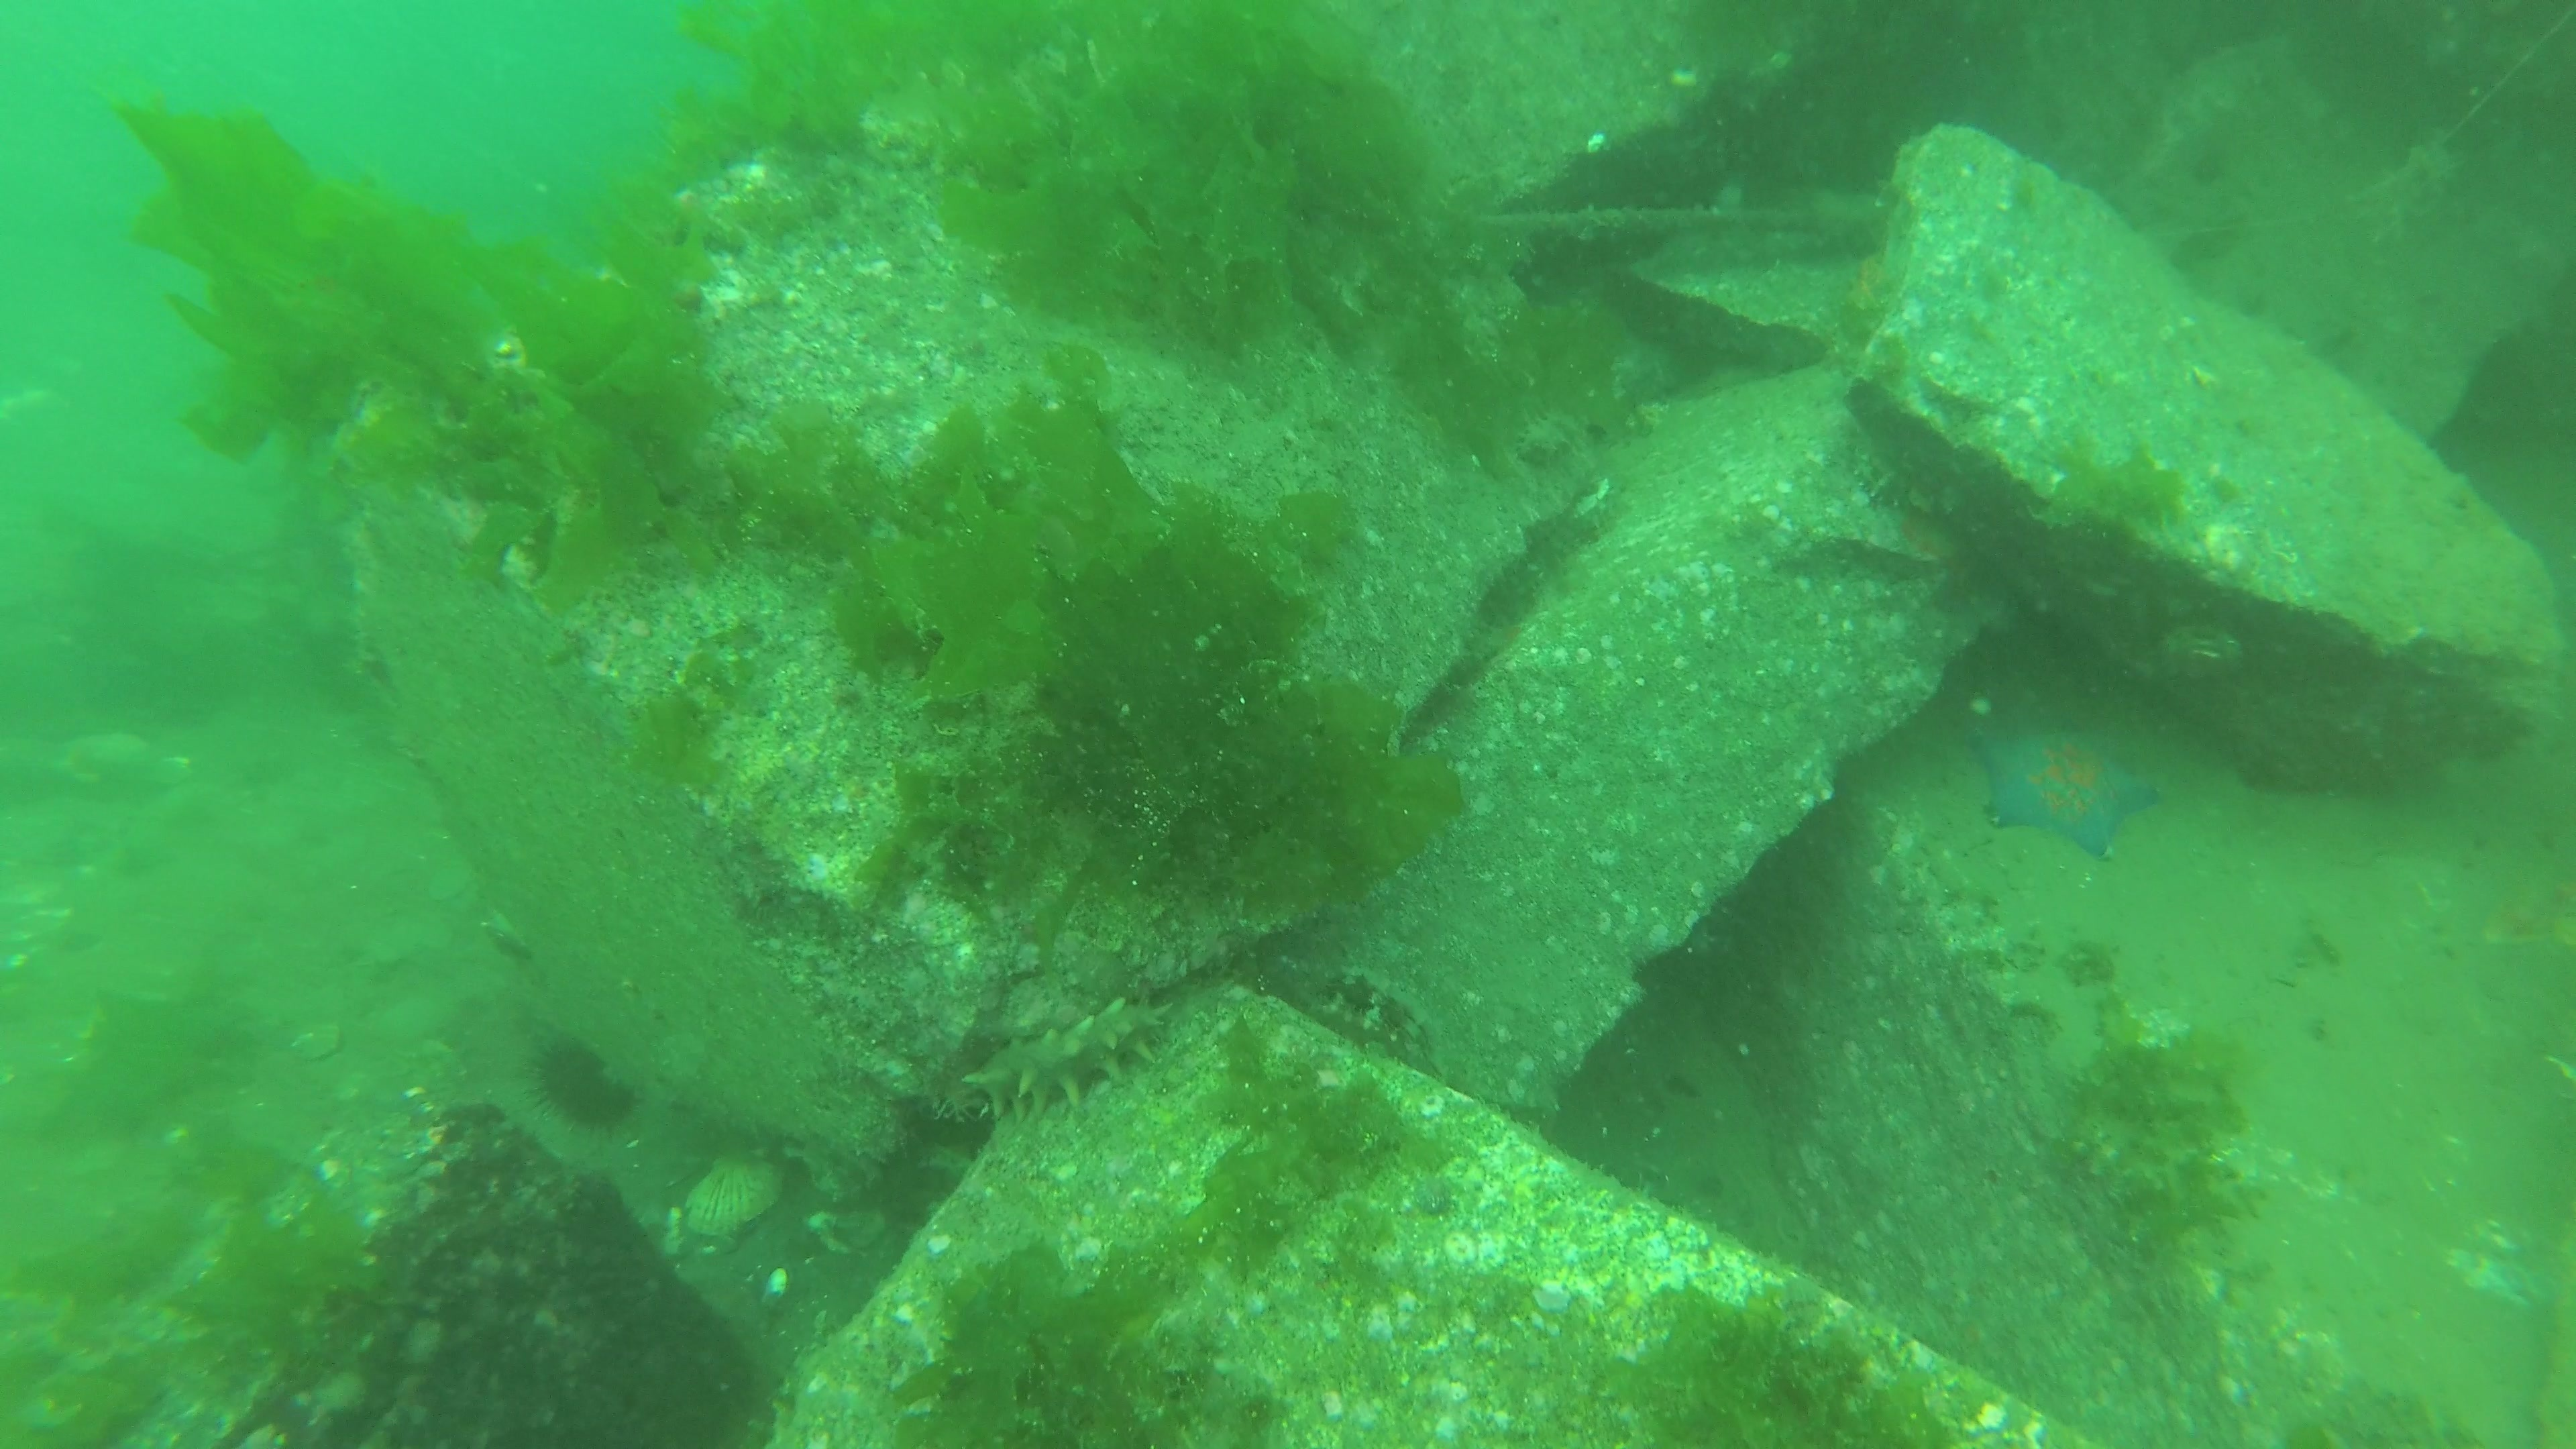echinus: (531, 1033, 642, 1141)
holothurian: (962, 996, 1173, 1122)
scallop: (683, 1157, 789, 1238)
starfish: (1964, 722, 2169, 860)
